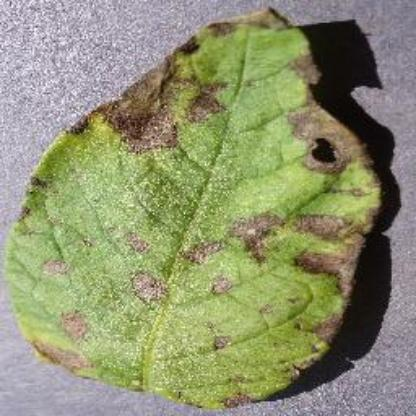Early-Blight: (9, 4, 382, 408)
